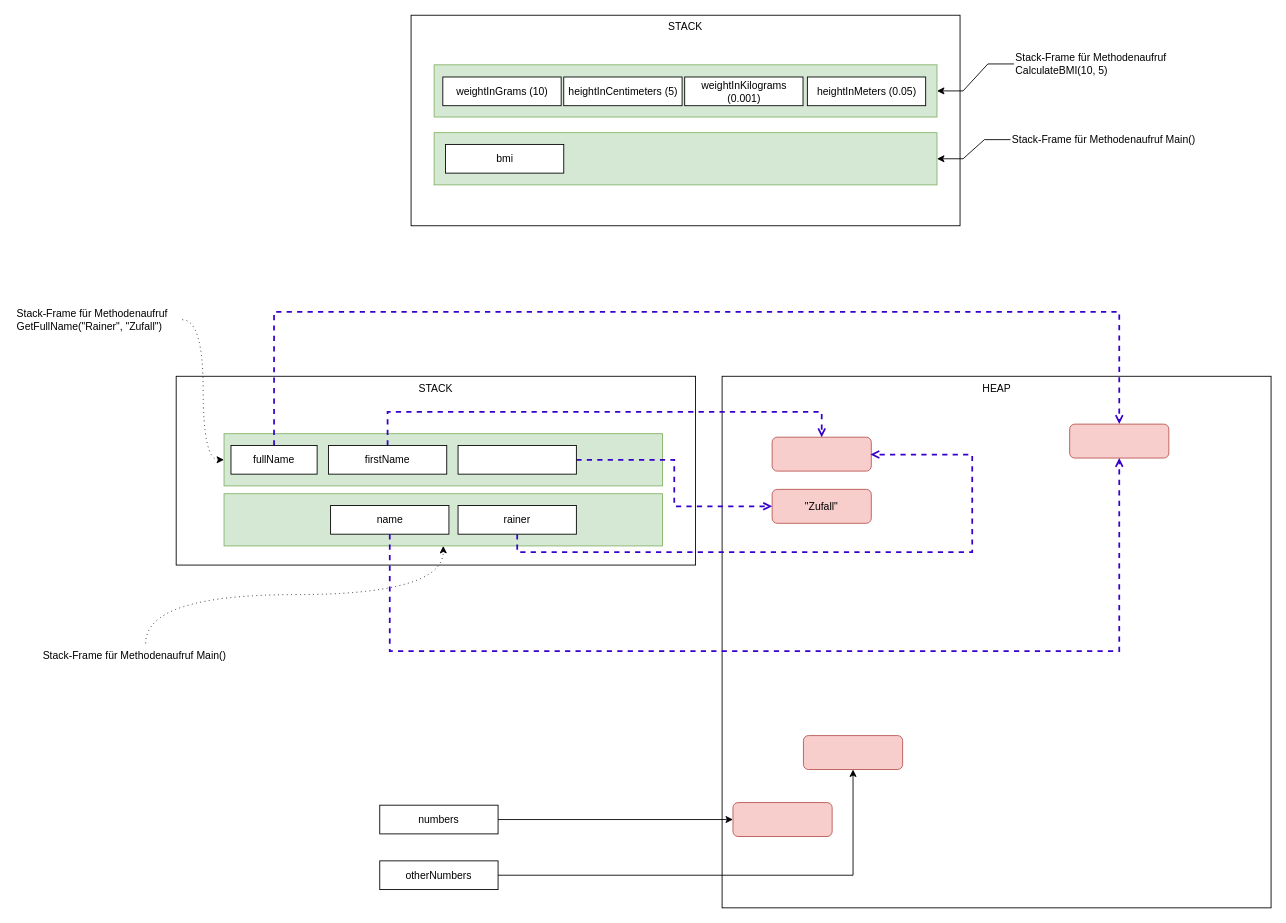
The diagram is 1286 pixels wide and 923 high, and some of its shapes have lost their labels. Each missing label, with the centre of its shape:
"Rainer Zufall": point 1119,440
"Rainer": point 821,453
int[] { 1, 2, 3, 4, 5 }: point 782,819
int[] {2, 4, 11, 21 }: point 853,752
lastName: point 516,459
